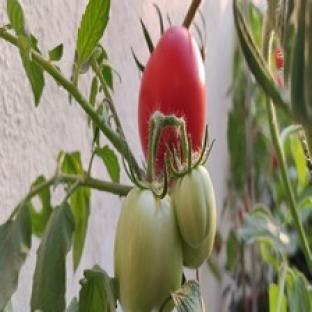Tomato: (138, 27, 206, 155), (115, 189, 182, 311), (173, 166, 215, 247), (183, 222, 215, 268), (275, 46, 284, 71)
